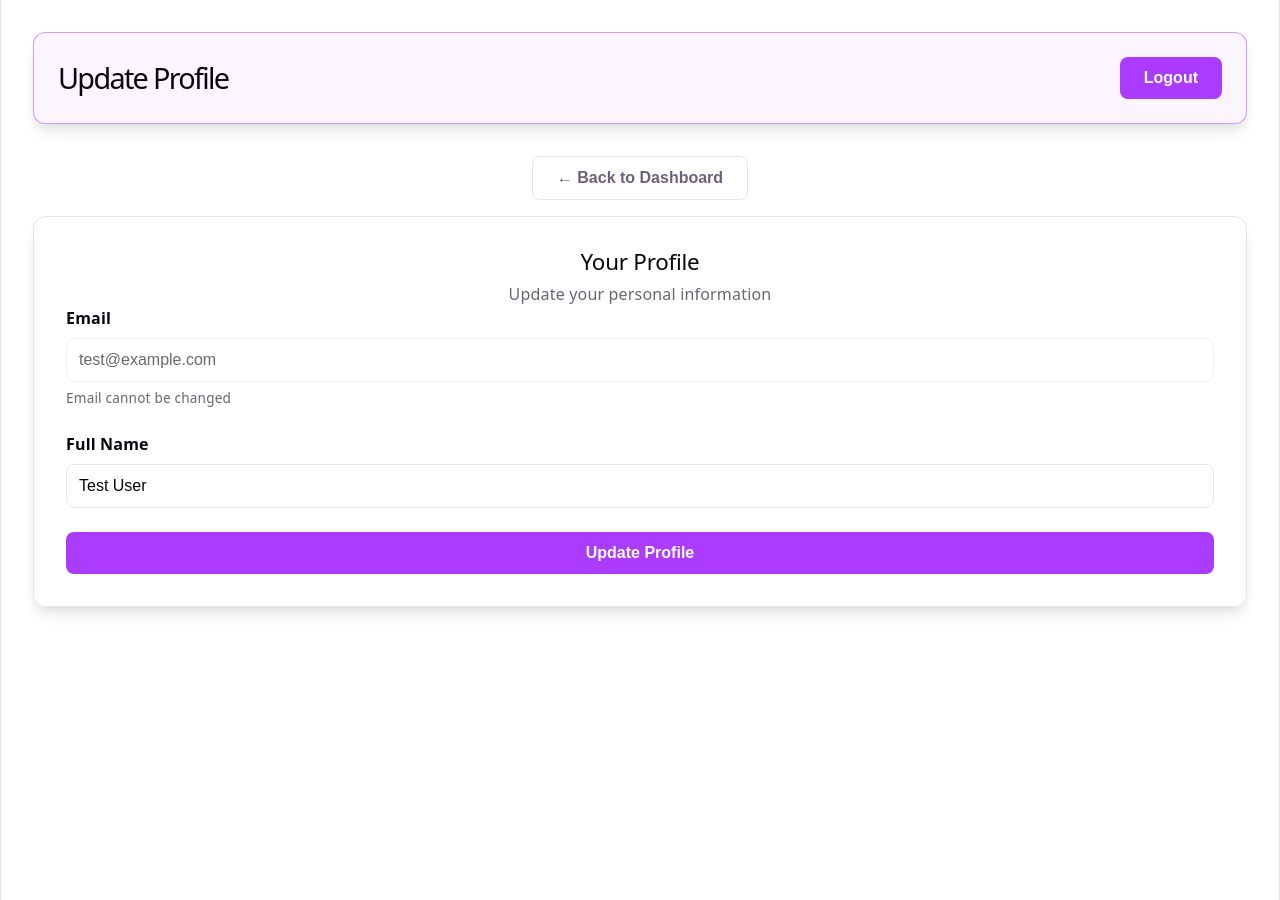
Scenario: UpdateProfilePage › should display error message when update fails
This screenshot has width=1280, height=900.
Replace the text in the field labelled "Full Name" with "Updated Name": [640, 486] box x1=66 y1=464 x2=1214 y2=508
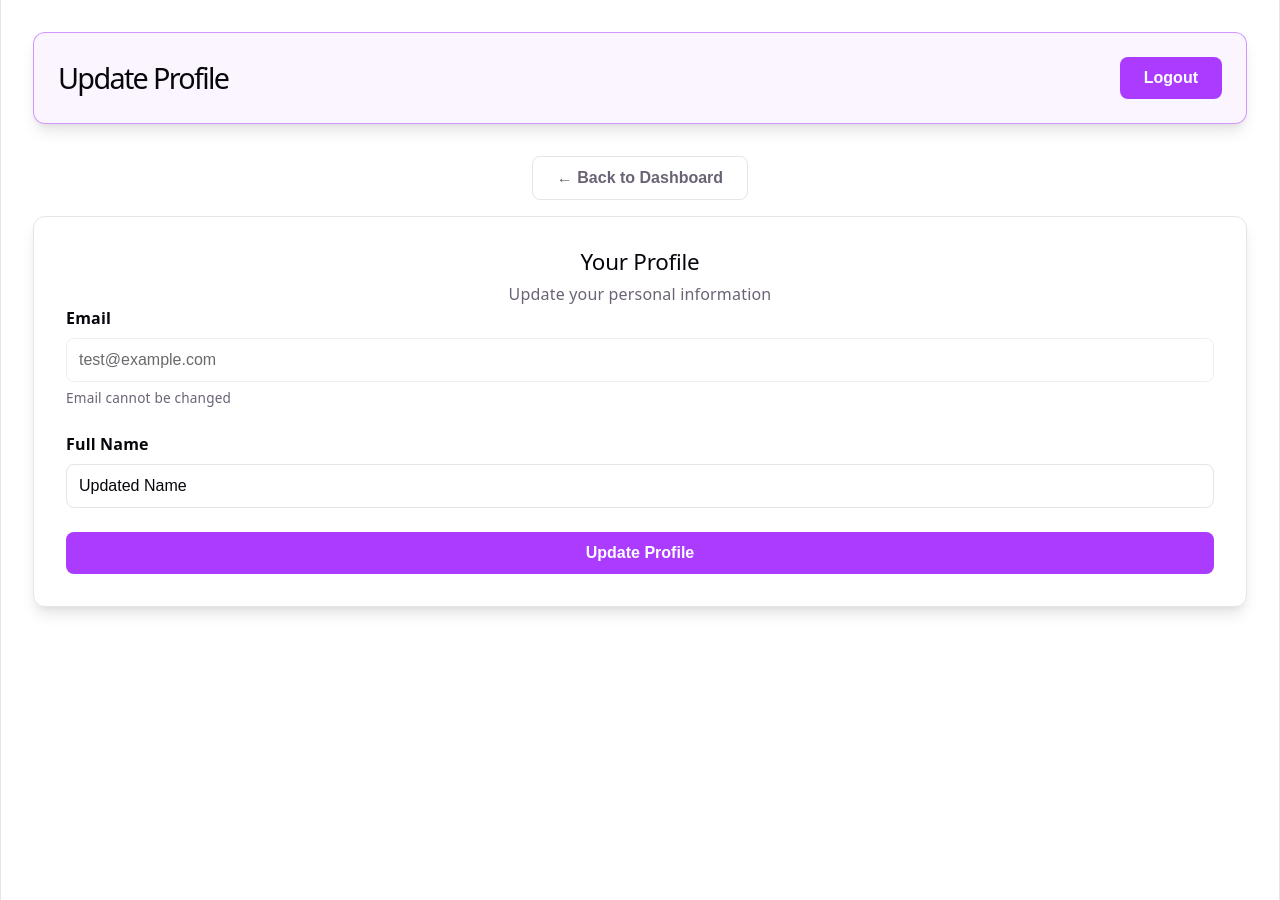
Click the button "Update Profile": [640, 553] box x1=66 y1=532 x2=1214 y2=574
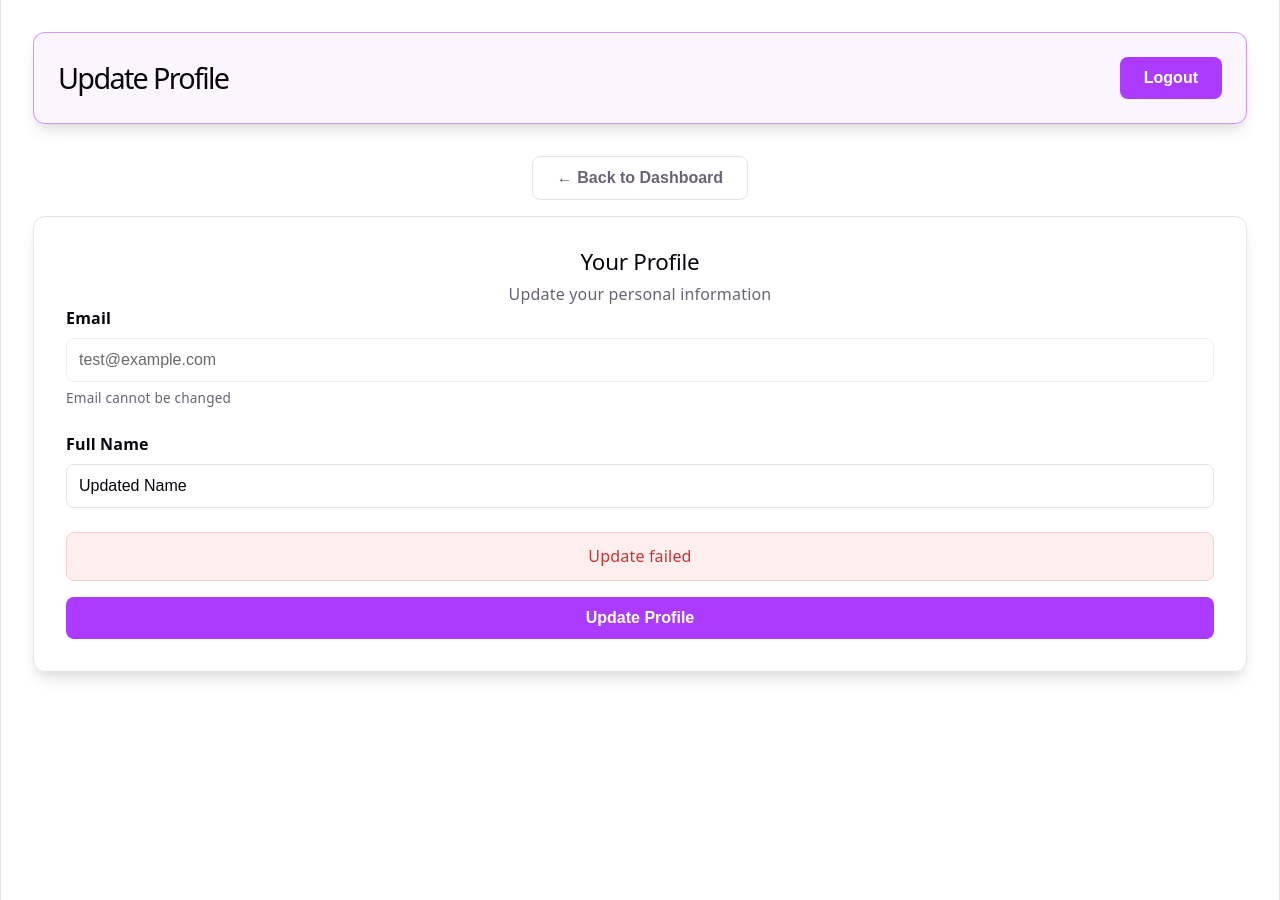
Now the text "Update failed" is shown, box x1=66 y1=532 x2=1214 y2=582
